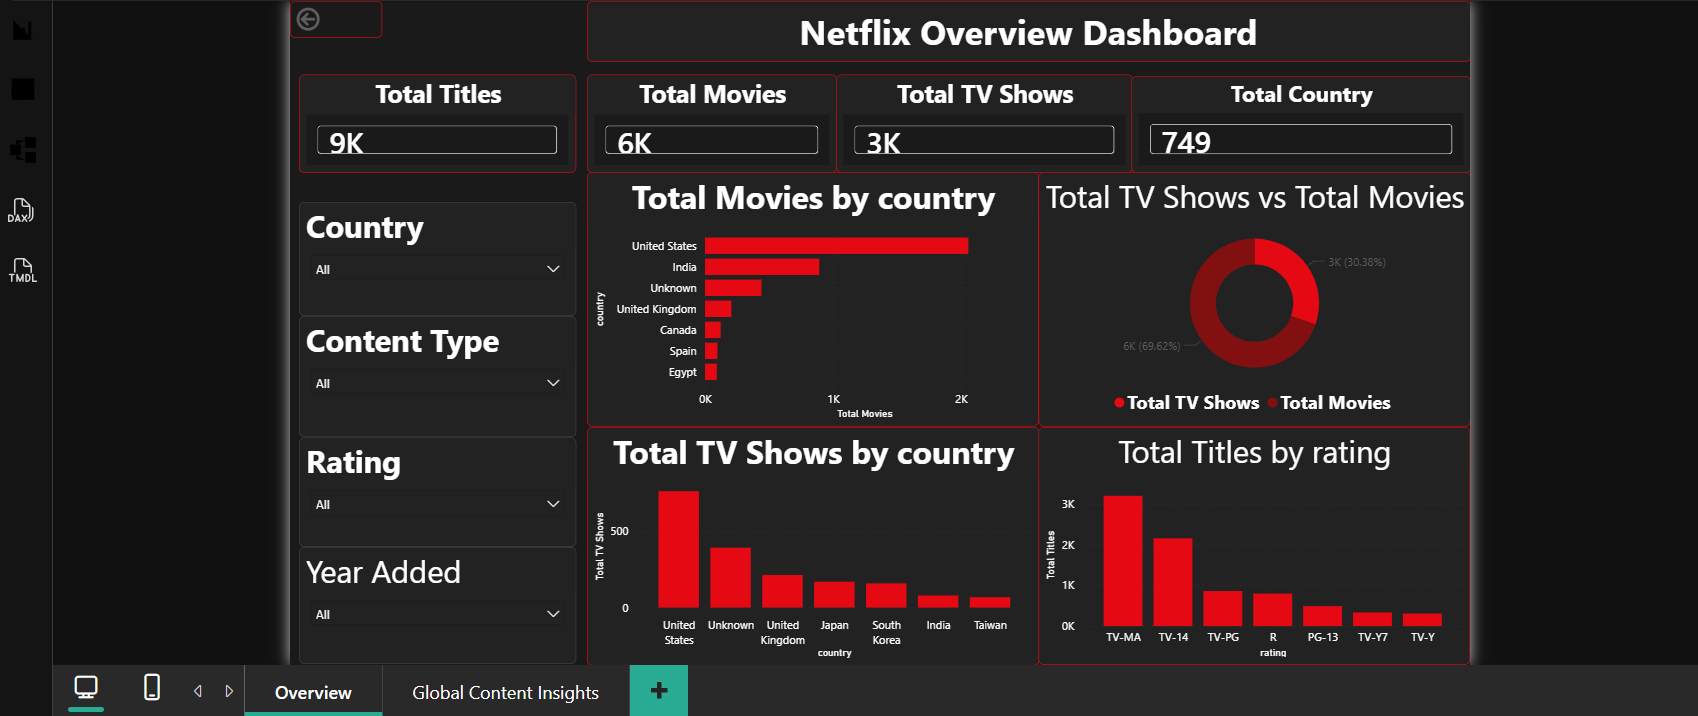

The page's visual inventory and layout, read from the dashboard file:
{"tool":"powerbi","page":{"name":" Overview","canvas":[1280,720],"ordinal":0},"visuals":[{"type":"cardVisual","title":"Total Titles","fields":{"Data":["netflix.Total Titles"]},"box":[9.9,78.9,300.8,106.9],"z":0},{"type":"cardVisual","title":"Total Movies","fields":{"Data":["netflix.Total Movies"]},"box":[322.2,78.9,271.2,106.9],"z":1000},{"type":"cardVisual","title":"Total TV Shows","fields":{"Data":["netflix.Total TV Shows"]},"box":[591.8,78.9,322.2,106.9],"z":2000},{"type":"cardVisual","title":"Total Country","fields":{"Data":["netflix.Total Countries"]},"box":[912.3,80.5,368.2,105.2],"z":3000},{"type":"clusteredBarChart","fields":{"Category":["netflix.country"],"Y":["netflix.Total Movies"]},"box":[322.2,185.8,489.9,276.2],"z":4000},{"type":"clusteredColumnChart","fields":{"Category":["netflix.country"],"Y":["netflix.Total TV Shows"]},"box":[321.4,461.8,490.6,258.8],"z":5000},{"type":"actionButton","box":[0,0,100,40],"z":6000},{"type":"slicer","title":"Country","fields":{"Values":["netflix.country"]},"box":[9.9,218.6,300.8,123.3],"z":7000},{"type":"donutChart","title":"Total TV Shows vs Total Movies","fields":{"Y":["netflix.Total TV Shows","netflix.Total Movies"]},"box":[812,186.1,468.6,275.7],"z":8000},{"type":"columnChart","fields":{"Category":["netflix.rating"],"Y":["netflix.Total Titles"]},"box":[811.2,462.2,468.1,257.9],"z":9000},{"type":"slicer","title":"Content Type","fields":{"Values":["netflix.Content Category"]},"box":[9.9,341.9,300.8,131.5],"z":10000},{"type":"slicer","title":"Rating","fields":{"Values":["netflix.rating"]},"box":[9.9,473.4,300.8,118.4],"z":11000},{"type":"slicer","title":"Year Added","fields":{"Values":["netflix.Year Added"]},"box":[9.9,591.8,300.8,126.6],"z":12000},{"type":"textbox","box":[322.2,0,958.4,65.8],"z":13000}]}

Visuals, with their boxes on the page's 1280x720 design canvas (x1, y1, x2, y2). These are canvas units, not pixel positions in the 1698x716 screenshot, which may show the page scaled, cropped or inside an application window:
"Total Titles" cardVisual: 10/79/311/186
"Total Movies" cardVisual: 322/79/593/186
"Total TV Shows" cardVisual: 592/79/914/186
"Total Country" cardVisual: 912/80/1280/186
clusteredBarChart - netflix.country x netflix.Total Movies: 322/186/812/462
clusteredColumnChart - netflix.country x netflix.Total TV Shows: 321/462/812/721
actionButton: 0/0/100/40
"Country" slicer: 10/219/311/342
"Total TV Shows vs Total Movies" donutChart: 812/186/1281/462
columnChart - netflix.rating x netflix.Total Titles: 811/462/1279/720
"Content Type" slicer: 10/342/311/473
"Rating" slicer: 10/473/311/592
"Year Added" slicer: 10/592/311/718
textbox: 322/0/1281/66
